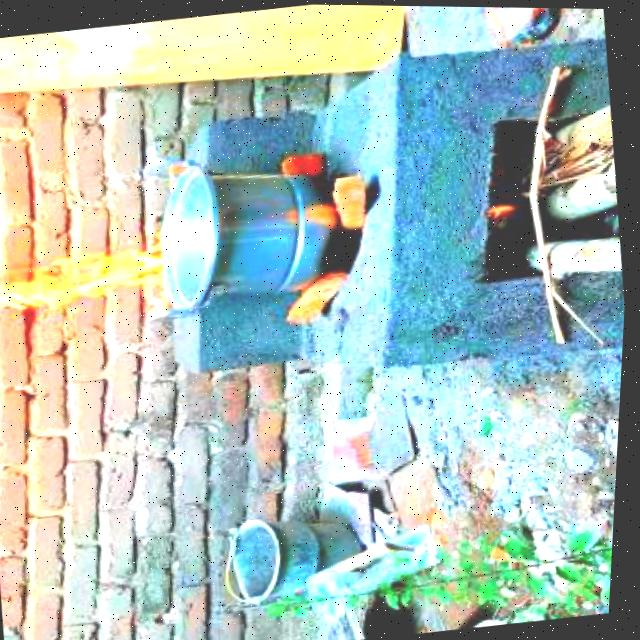Fire: (0, 223, 198, 333), (270, 189, 350, 234), (472, 195, 521, 219)
